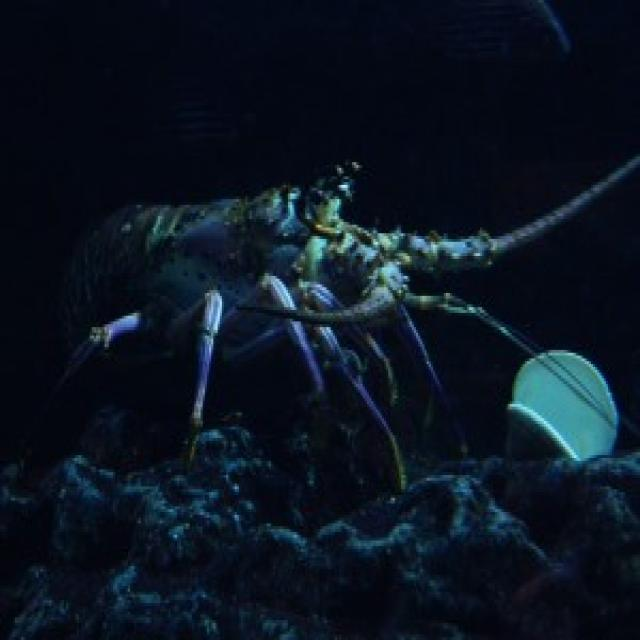lobsters: (68, 132, 603, 492)
